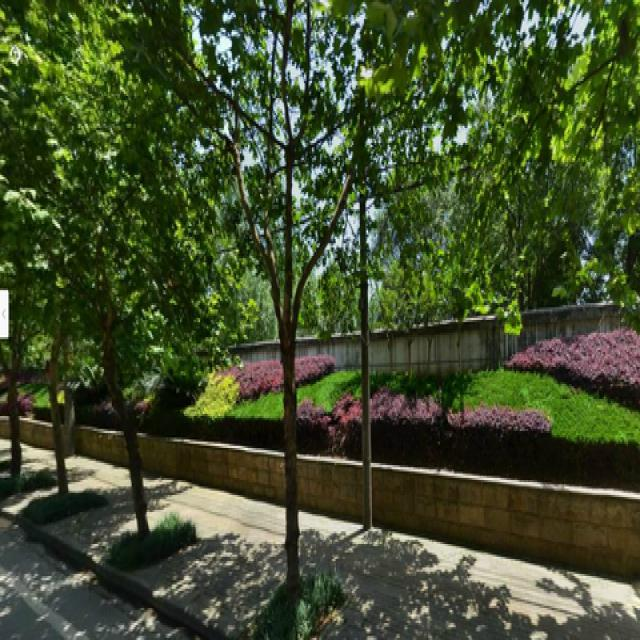meta: (36, 32, 173, 510)
